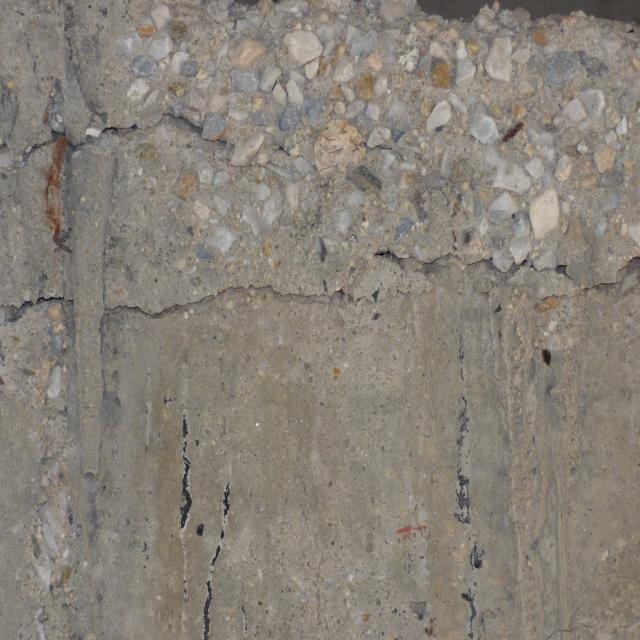corrosion: (35, 125, 85, 252), (501, 118, 525, 142), (540, 346, 554, 371)
